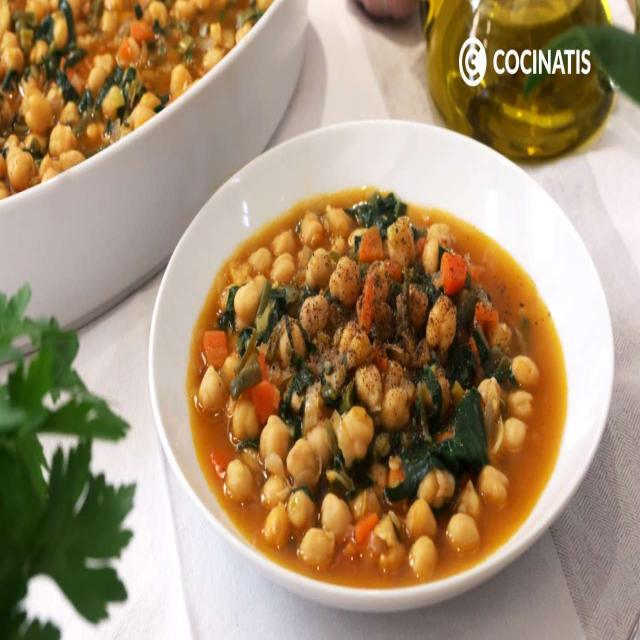garbanzos: (177, 173, 572, 600)
